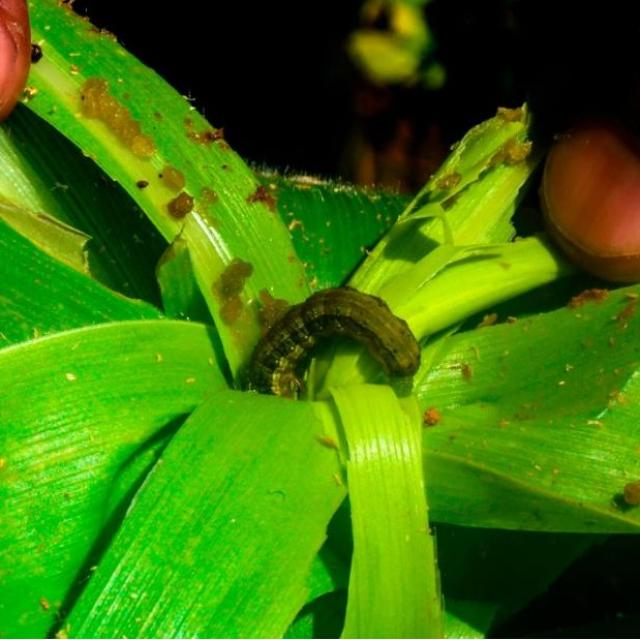Fall-armyworm: (242, 287, 439, 408)
